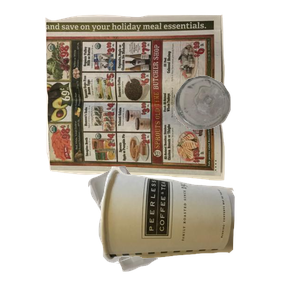glass: (172, 73, 300, 195)
paper: (42, 12, 260, 185)
plastic: (85, 163, 235, 300)
trash: (95, 164, 300, 300)
